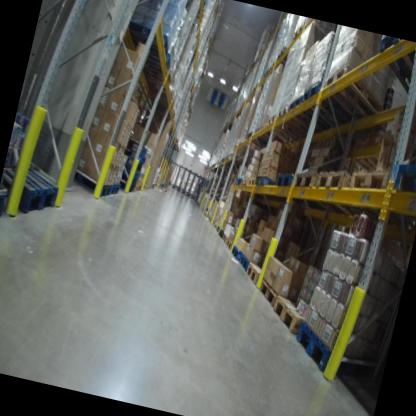pallet: (286, 318, 389, 392), (338, 154, 416, 236), (0, 145, 71, 230), (317, 60, 392, 132), (311, 161, 382, 227), (368, 36, 416, 106), (297, 78, 355, 133), (285, 90, 337, 134), (290, 166, 335, 210), (386, 158, 416, 222), (69, 160, 116, 198), (269, 294, 310, 337), (127, 20, 174, 56), (263, 110, 308, 145), (274, 104, 315, 138), (253, 276, 285, 312), (272, 166, 306, 199), (120, 139, 150, 168), (142, 45, 175, 71), (242, 260, 267, 287), (117, 150, 145, 174), (254, 173, 282, 195), (123, 134, 150, 156), (0, 176, 14, 217), (117, 160, 143, 180), (236, 251, 253, 274), (117, 180, 139, 196), (228, 244, 244, 264), (293, 22, 309, 42), (120, 173, 140, 187), (109, 181, 122, 199), (247, 172, 258, 189), (224, 234, 234, 252), (239, 176, 250, 188), (220, 234, 228, 246)
